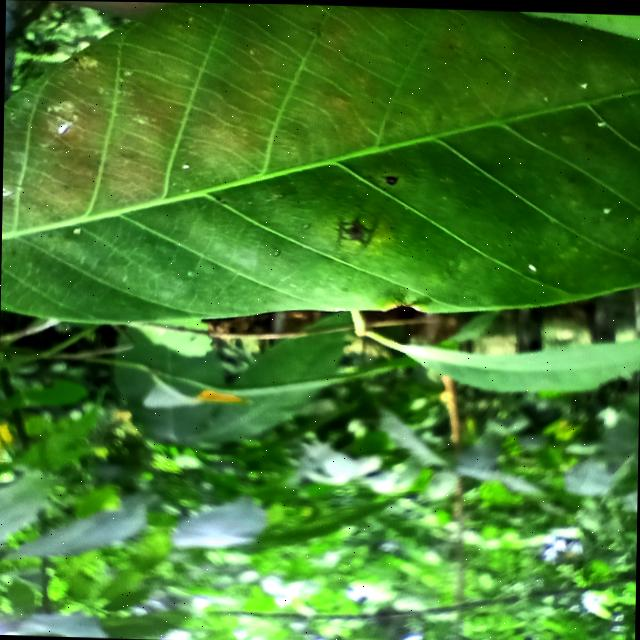Colletotrichum: (386, 173, 398, 183)
Corynespora: (336, 213, 377, 248)
